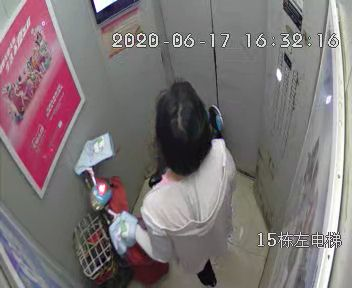Electric-bicycle: (75, 106, 224, 277)
